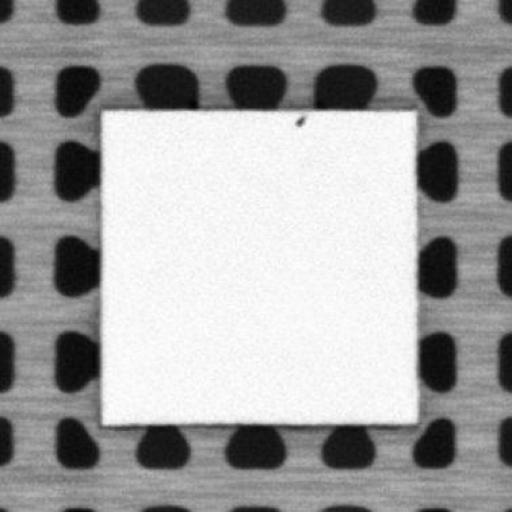DIE_INK: (292, 111, 304, 127)
